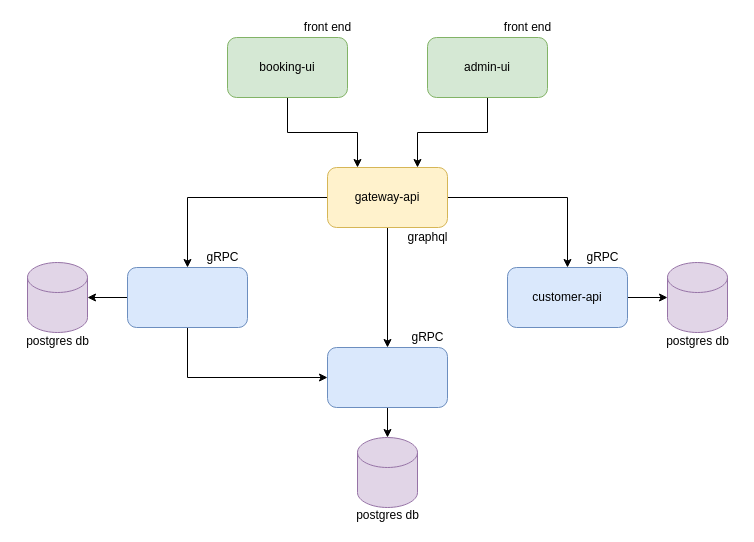
Image size: 754x542. Some labels were removed from this diagram. Here are the shapes that lost their labels. From the top down, the centre of each, then its label:
point 187,297: booking-api
point 387,377: venue-api
